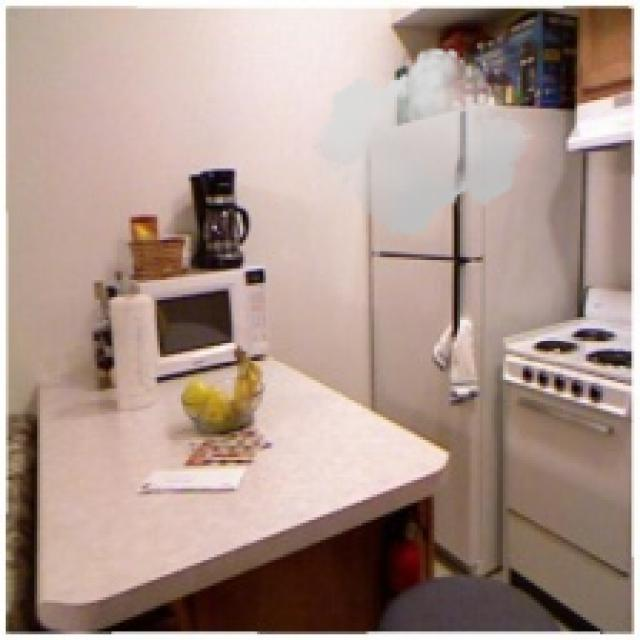smoke: (312, 40, 534, 243)
